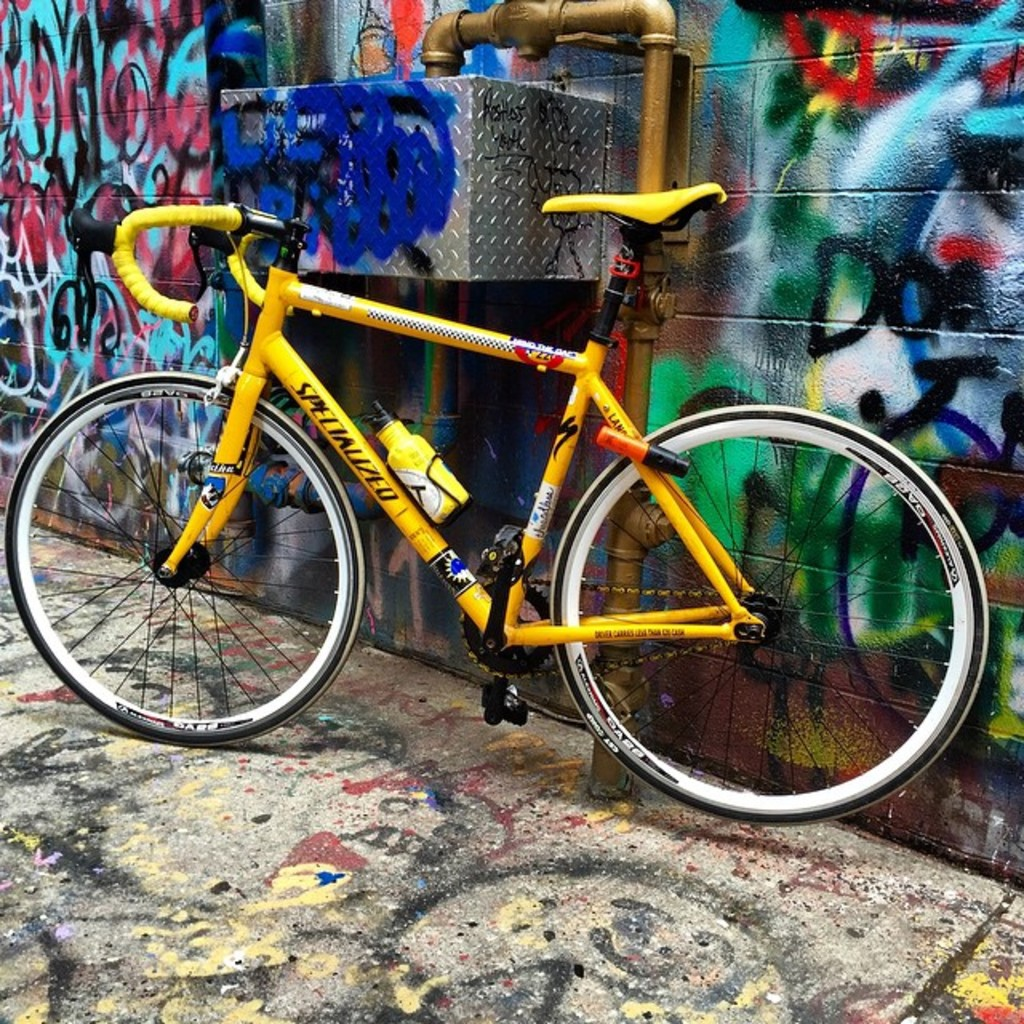Bike_away: (64, 199, 972, 854)
